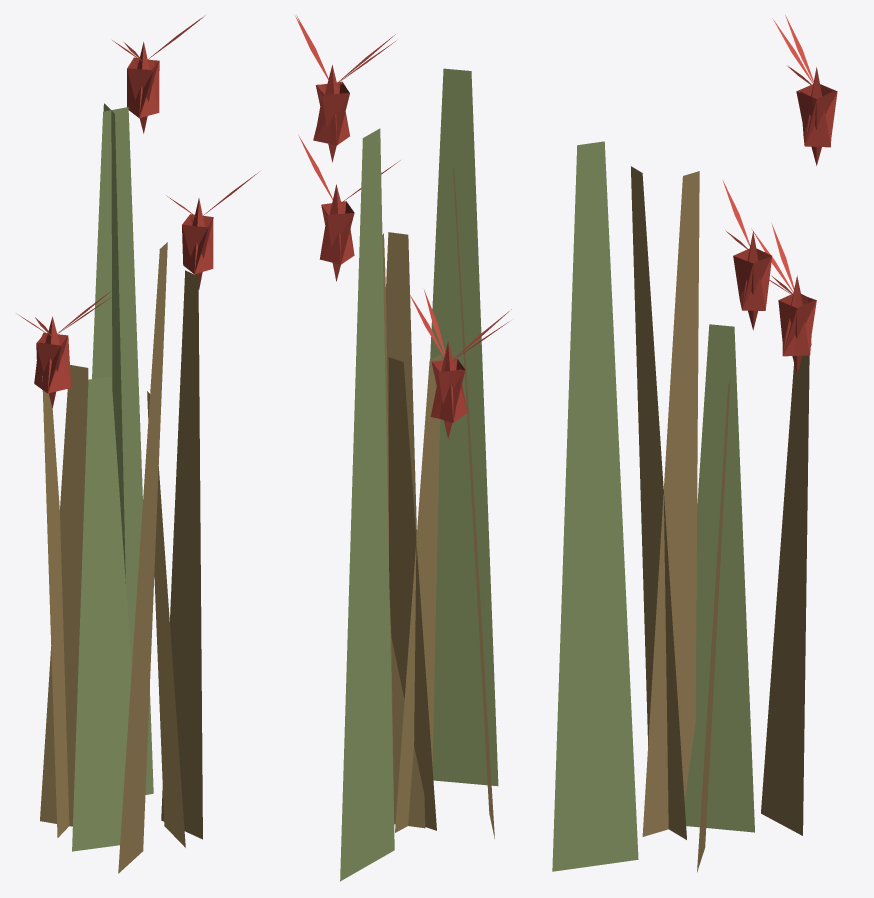
File: shui.pucao@fruiting__autumn.glb
3 views of the same model, side by side, from view 1: azimuth 30°, elevation 25°; view 2: azimuth 150°, elevation 25°; view 3: azimuth 270°, elevation 25° (orthographic). The views are drawn at different scales.
Visible parts, largest first — view 1: shui.pucao@fruiting__autumn; view 2: shui.pucao@fruiting__autumn; view 3: shui.pucao@fruiting__autumn.
Boxes of the visible parts, <box> form: shui.pucao@fruiting__autumn: <box>16,15,259,873</box>; shui.pucao@fruiting__autumn: <box>295,15,511,881</box>; shui.pucao@fruiting__autumn: <box>552,15,837,872</box>.
Bounding box in the file's own units: 0.7192 × 2.36 × 0.7877.
